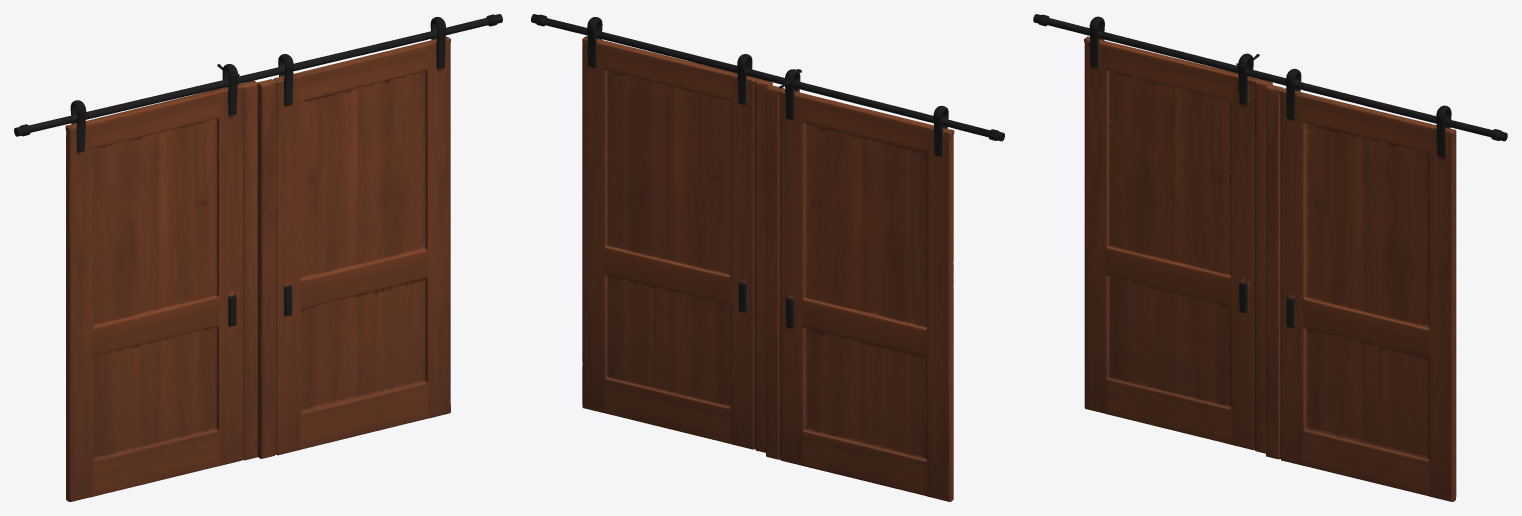
File: sliding door.glb
3 renders of one model, left to right at view 1: azimuth 30°, elevation 25°; view 2: azimuth 150°, elevation 25°; view 3: azimuth 330°, elevation 25°, orthographic.
Parts seen in each view (by area): view 1: Mesh_0; view 2: Mesh_0; view 3: Mesh_0.
Boxes of the visible parts, x1,y1,x2,y2 form: Mesh_0: (14,14,502,501); Mesh_0: (531,14,1004,501); Mesh_0: (1033,14,1507,501).
Bounding box in the file's own units: 2.28 × 1.8 × 0.1702.
1 material, 1 textured.
